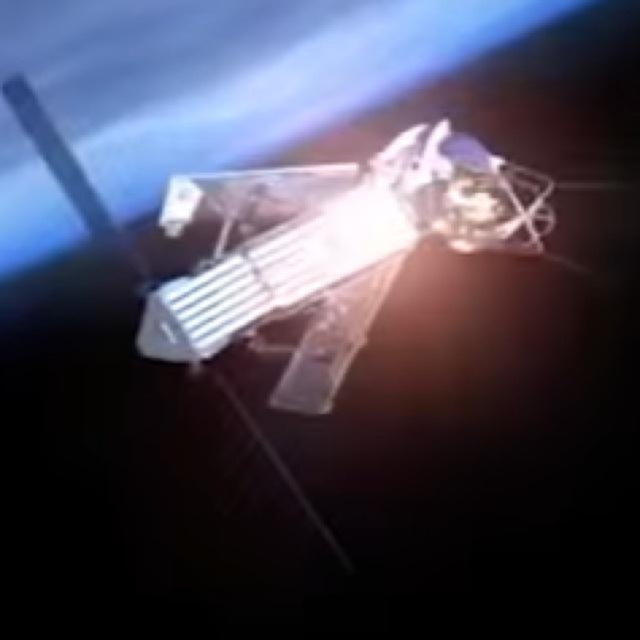large_debris: (129, 94, 569, 434)
